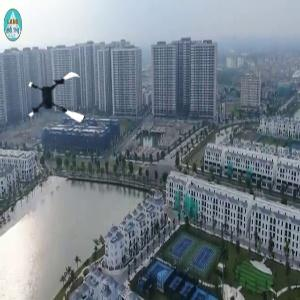drone: (27, 68, 92, 133)
